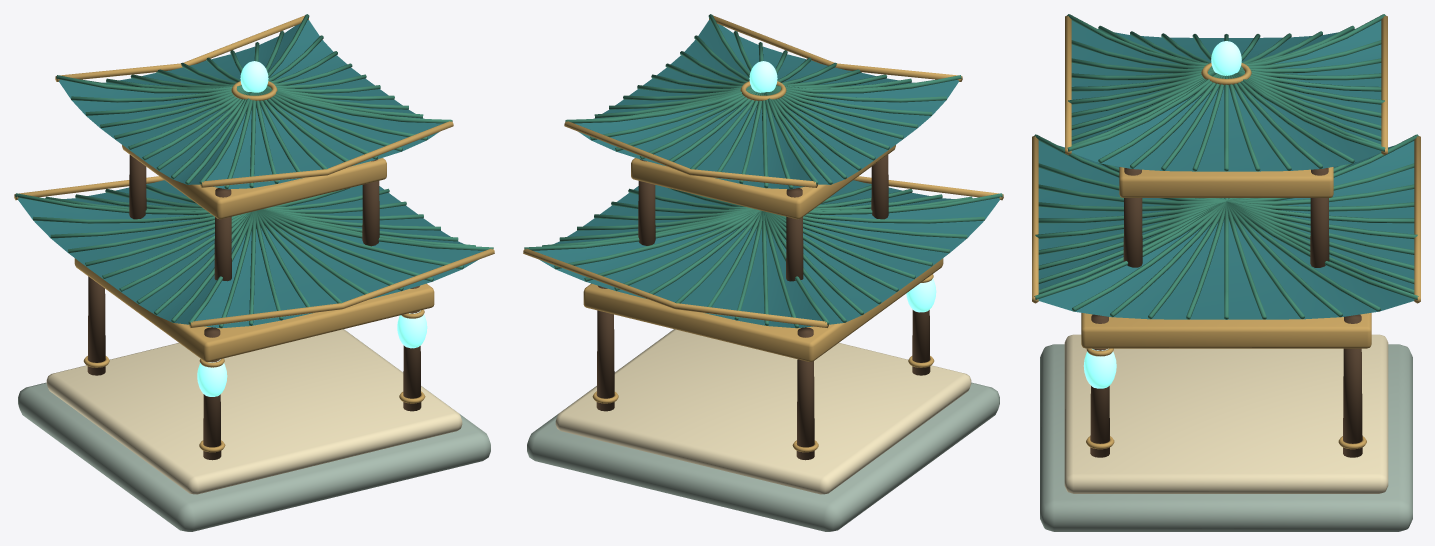
Rendered from zhaosheng_pagoda.glb.
The picture shows the model from 3 angles, left to right: view 1: azimuth 30°, elevation 25°; view 2: azimuth 150°, elevation 25°; view 3: azimuth 270°, elevation 25°; orthographic projection. The views are drawn at different scales.
Parts seen in each view (by area): view 1: Foundation; view 2: Foundation; view 3: Foundation.
Boxes of the visible parts, x1=… form: Foundation: x1=14, y1=14, x2=494, y2=531; Foundation: x1=523, y1=14, x2=1003, y2=531; Foundation: x1=1032, y1=14, x2=1420, y2=531.
Bounding box in the file's own units: 3.6 × 4.14 × 3.54.
